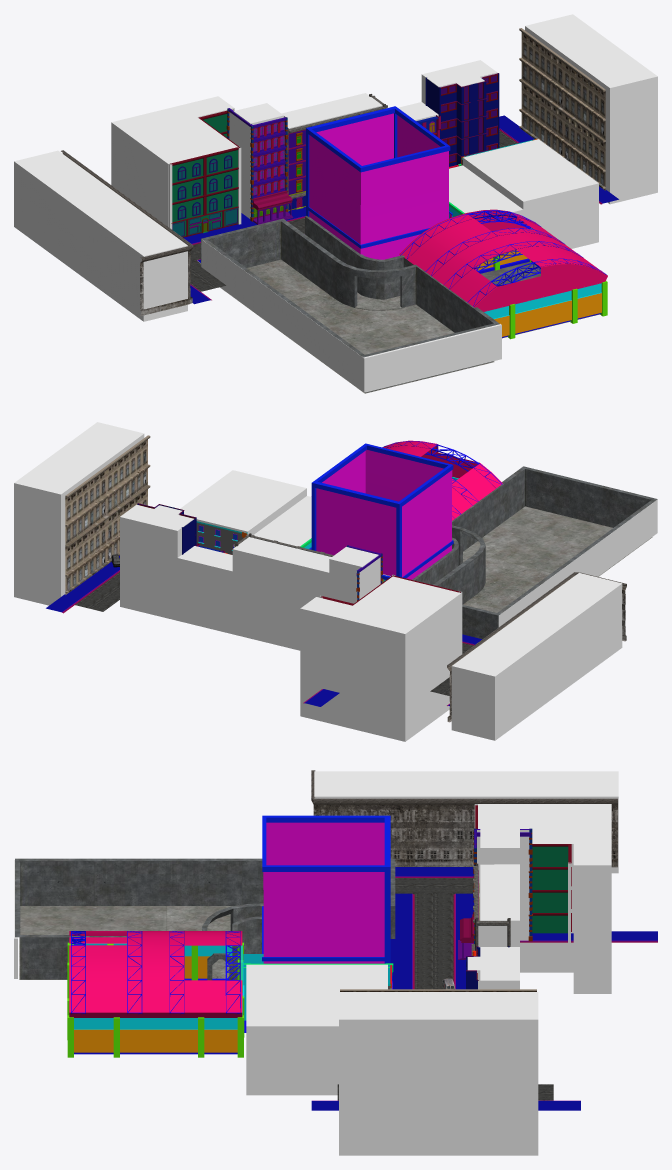
The model's file is cidade.fbx.
3 renders of one model, top to bottom at view 1: azimuth 30°, elevation 25°; view 2: azimuth 150°, elevation 25°; view 3: azimuth 270°, elevation 25°, orthographic. The views are drawn at different scales.
Visible parts, largest first — view 1: BLD_L_gedungA; view 2: BLD_L_gedungA; view 3: BLD_L_gedungA.
Boxes of the visible parts, x1,y1,x2,y2 form: BLD_L_gedungA: (14,14,657,393); BLD_L_gedungA: (14,422,657,741); BLD_L_gedungA: (14,770,657,1155).
Bounding box in the file's own units: 12727 × 3428 × 11476.
30 materials, 12 textured.
